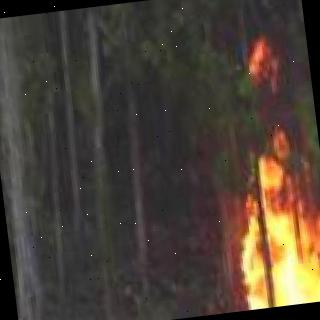fire: (161, 136, 320, 318)
